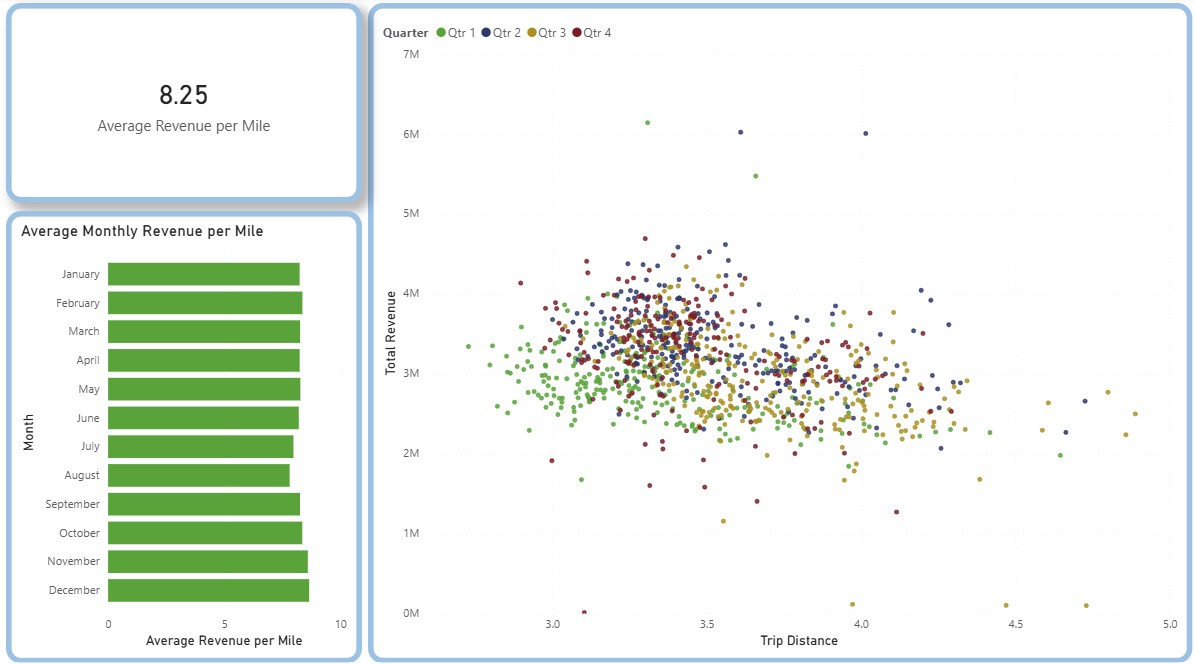

What the dashboard file says about the page in this screenshot:
{"tool":"powerbi","page":{"name":"Operational Insights","canvas":[1280,720],"ordinal":4},"visuals":[{"type":"scatterChart","fields":{"Y":["Sum(VW_NYC_GOLD_DAILY_STATS.TOTAL_REVENUE)"],"X":["Avg(VW_NYC_GOLD_DAILY_STATS.AVG_TRIP_DISTANCE)"],"Category":["VW_NYC_GOLD_DAILY_STATS.TOTAL_TRIPS"],"Series":["DIM_DATE.Date.Variation.Date Hierarchy.Quarter"]},"box":[392.7,6.4,880.1,705.1],"z":0},{"type":"card","fields":{"Values":["Avg(VW_NYC_GOLD_DAILY_STATS.REVENUE_PER_MILE)"]},"box":[6.4,6.4,379.9,213.2],"z":1000},{"type":"clusteredBarChart","title":"Average Monthly Revenue per Mile","fields":{"Y":["Avg(VW_NYC_GOLD_DAILY_STATS.REVENUE_PER_MILE)"],"Category":["DIM_DATE.Date.Variation.Date Hierarchy.Month"]},"box":[6.4,228.7,379.9,482.8],"z":2000}]}

Visuals, with their boxes in screenshot pixels (x1, y1, x2, y2), scaled from the page's 1280x720 canvas onto the 1195x664 screenshot:
scatterChart - Sum(VW_NYC_GOLD_DAILY_STATS.TOTAL_REVENUE) x Avg(VW_NYC_GOLD_DAILY_STATS.AVG_TRIP_DISTANCE): bbox=(367, 6, 1188, 656)
card - Avg(VW_NYC_GOLD_DAILY_STATS.REVENUE_PER_MILE): bbox=(6, 6, 361, 203)
"Average Monthly Revenue per Mile" clusteredBarChart: bbox=(6, 211, 361, 656)
